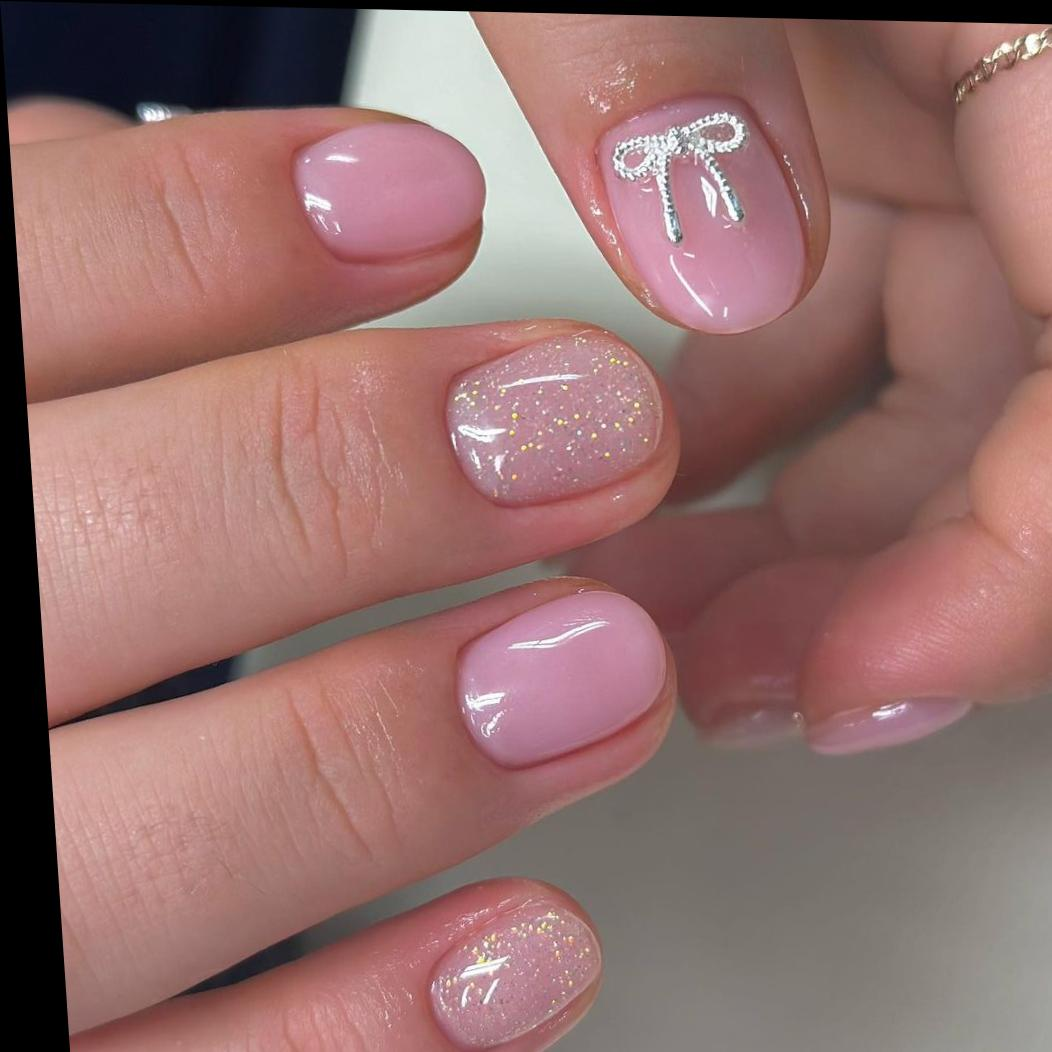nail: (588, 89, 821, 338), (436, 325, 673, 512), (445, 584, 677, 775), (284, 116, 490, 269), (417, 893, 608, 1052), (799, 693, 977, 760)
